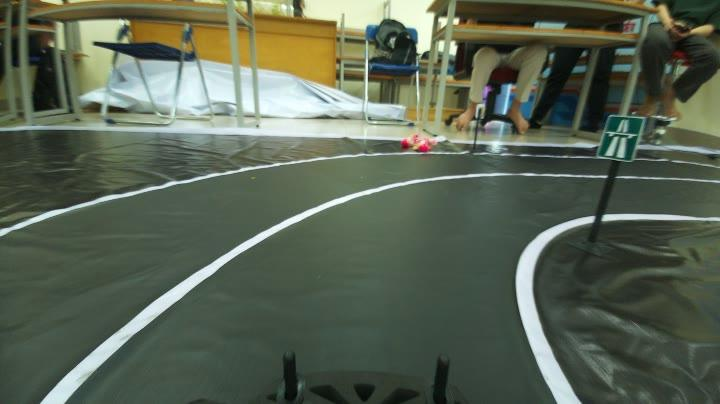highway_entry: (598, 109, 643, 163)
